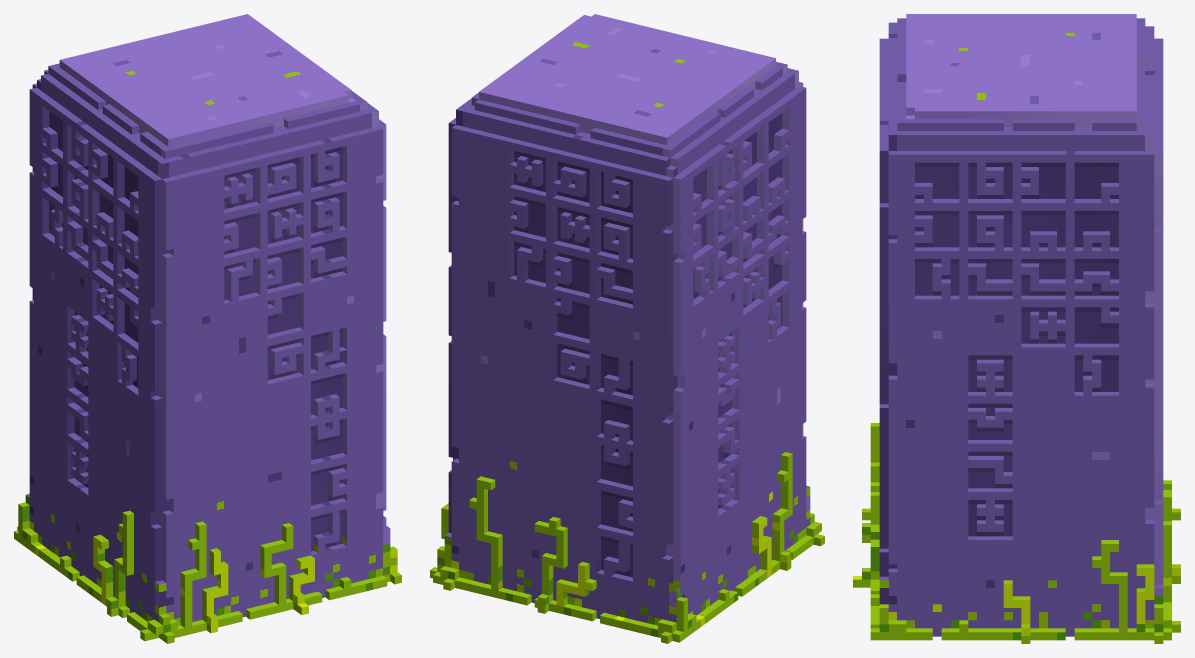
Rendered from zuish_monolith_aao.fezao.glb.
3 renders of one model, left to right at view 1: azimuth 30°, elevation 25°; view 2: azimuth 150°, elevation 25°; view 3: azimuth 270°, elevation 25°, orthographic. The views are drawn at different scales.
Visible parts, largest first — view 1: zuish_monolith_AAO; view 2: zuish_monolith_AAO; view 3: zuish_monolith_AAO.
Boxes of the visible parts, <box> form: zuish_monolith_AAO: <box>14,14,401,643</box>; zuish_monolith_AAO: <box>430,14,824,643</box>; zuish_monolith_AAO: <box>853,14,1180,643</box>.
Bounding box in the file's own units: 2.25 × 4 × 2.31.
Materials: 1 (1 with a texture image).
